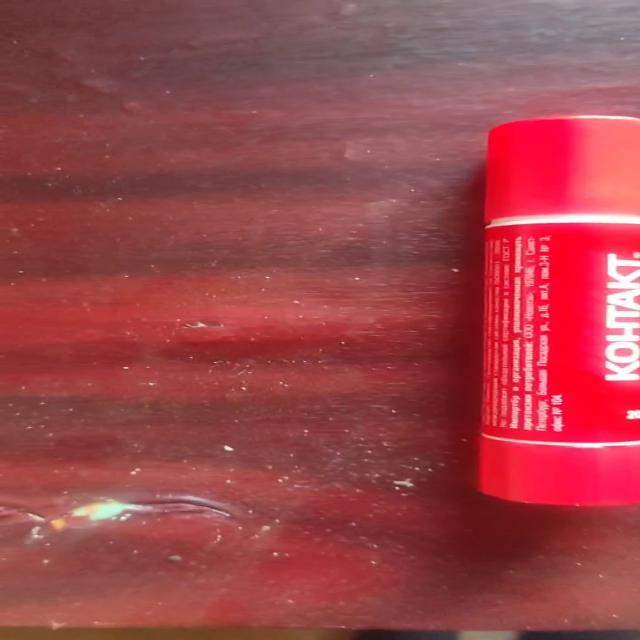glue: (476, 114, 638, 506)
